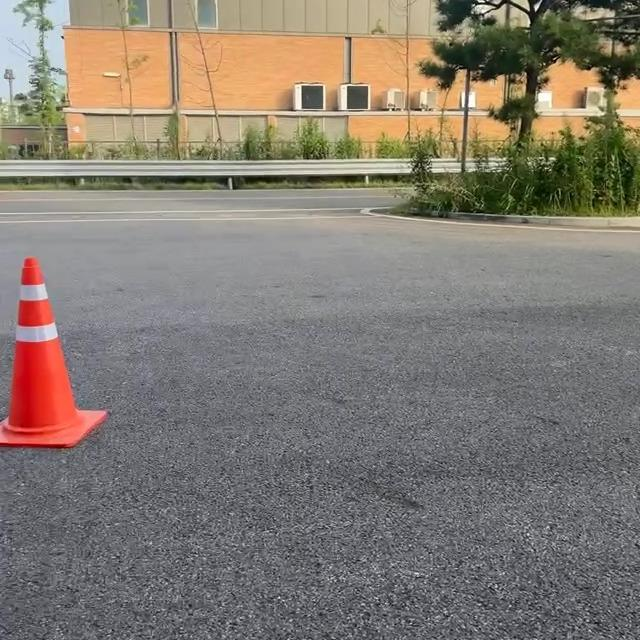fallen_object: (0, 226, 133, 513)
